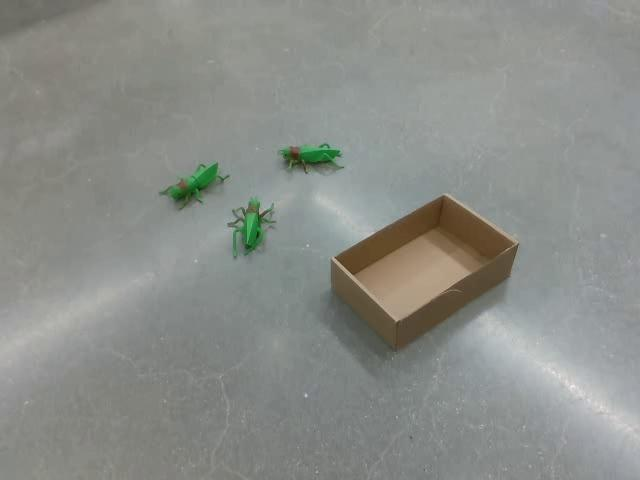box: (329, 192, 519, 352)
grasshopper: (158, 159, 230, 210), (226, 195, 276, 258), (278, 141, 343, 173)
